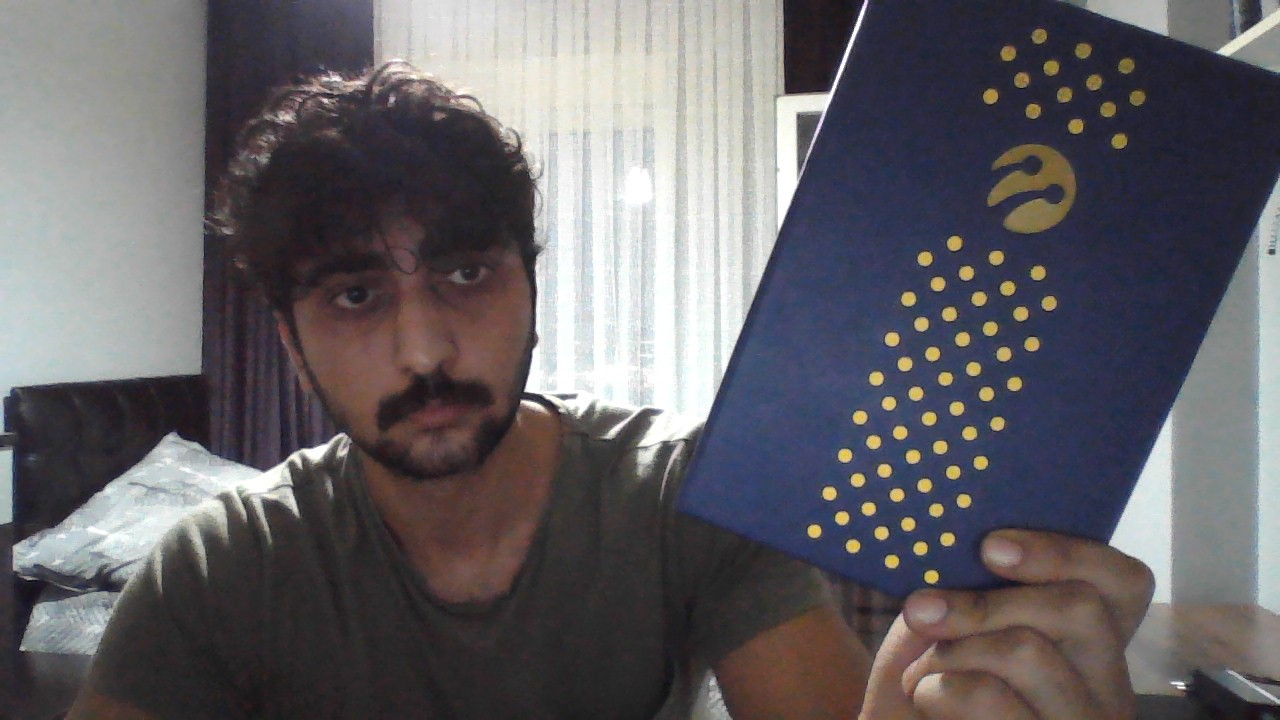turkcell: (983, 132, 1075, 242)
